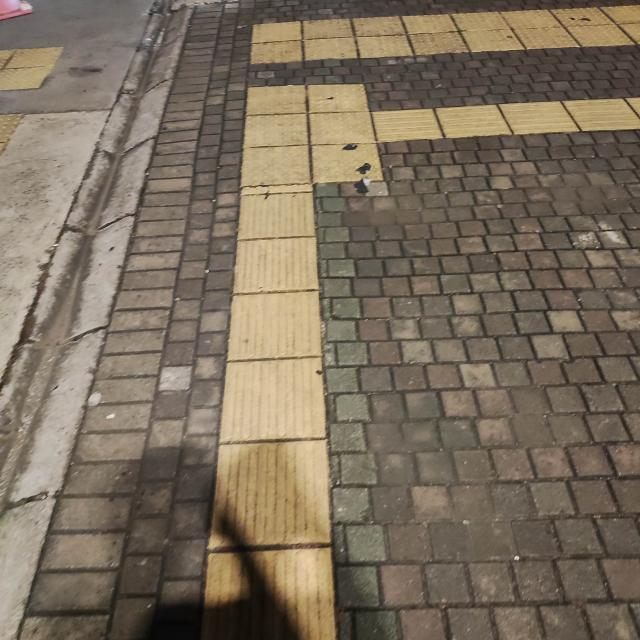kanan: (208, 90, 472, 198)
